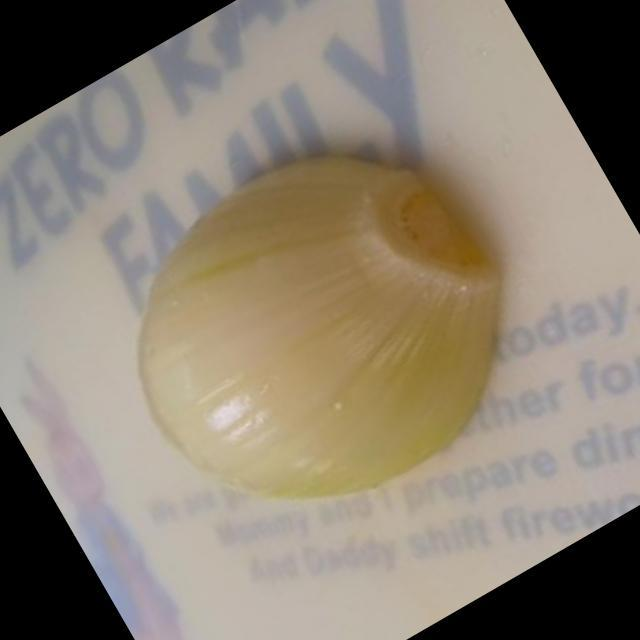Onion: (138, 158, 496, 499)
